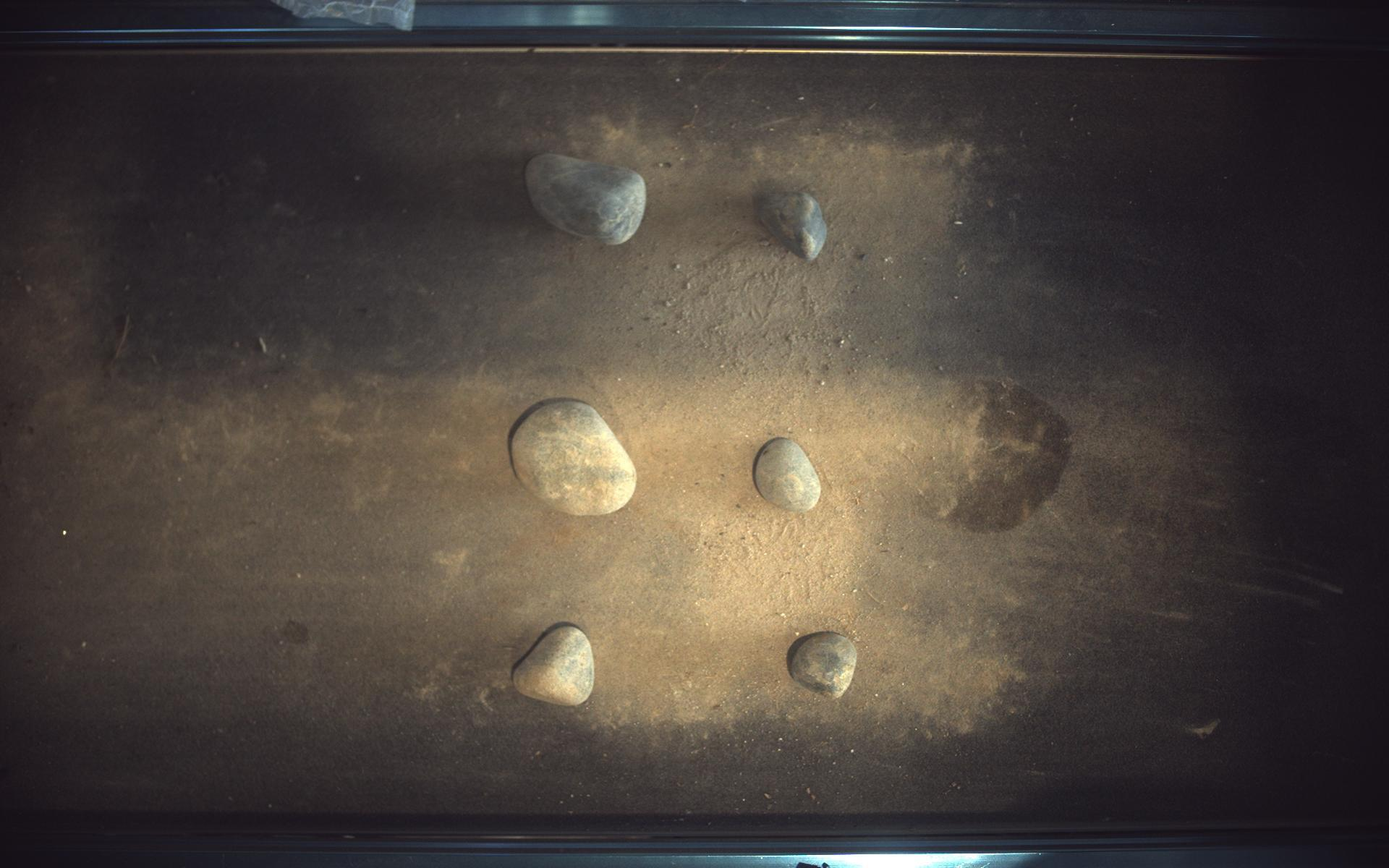stone: (511, 400, 637, 516), (525, 153, 647, 244), (513, 626, 595, 707), (755, 438, 823, 513), (788, 632, 859, 699), (760, 192, 828, 260)
